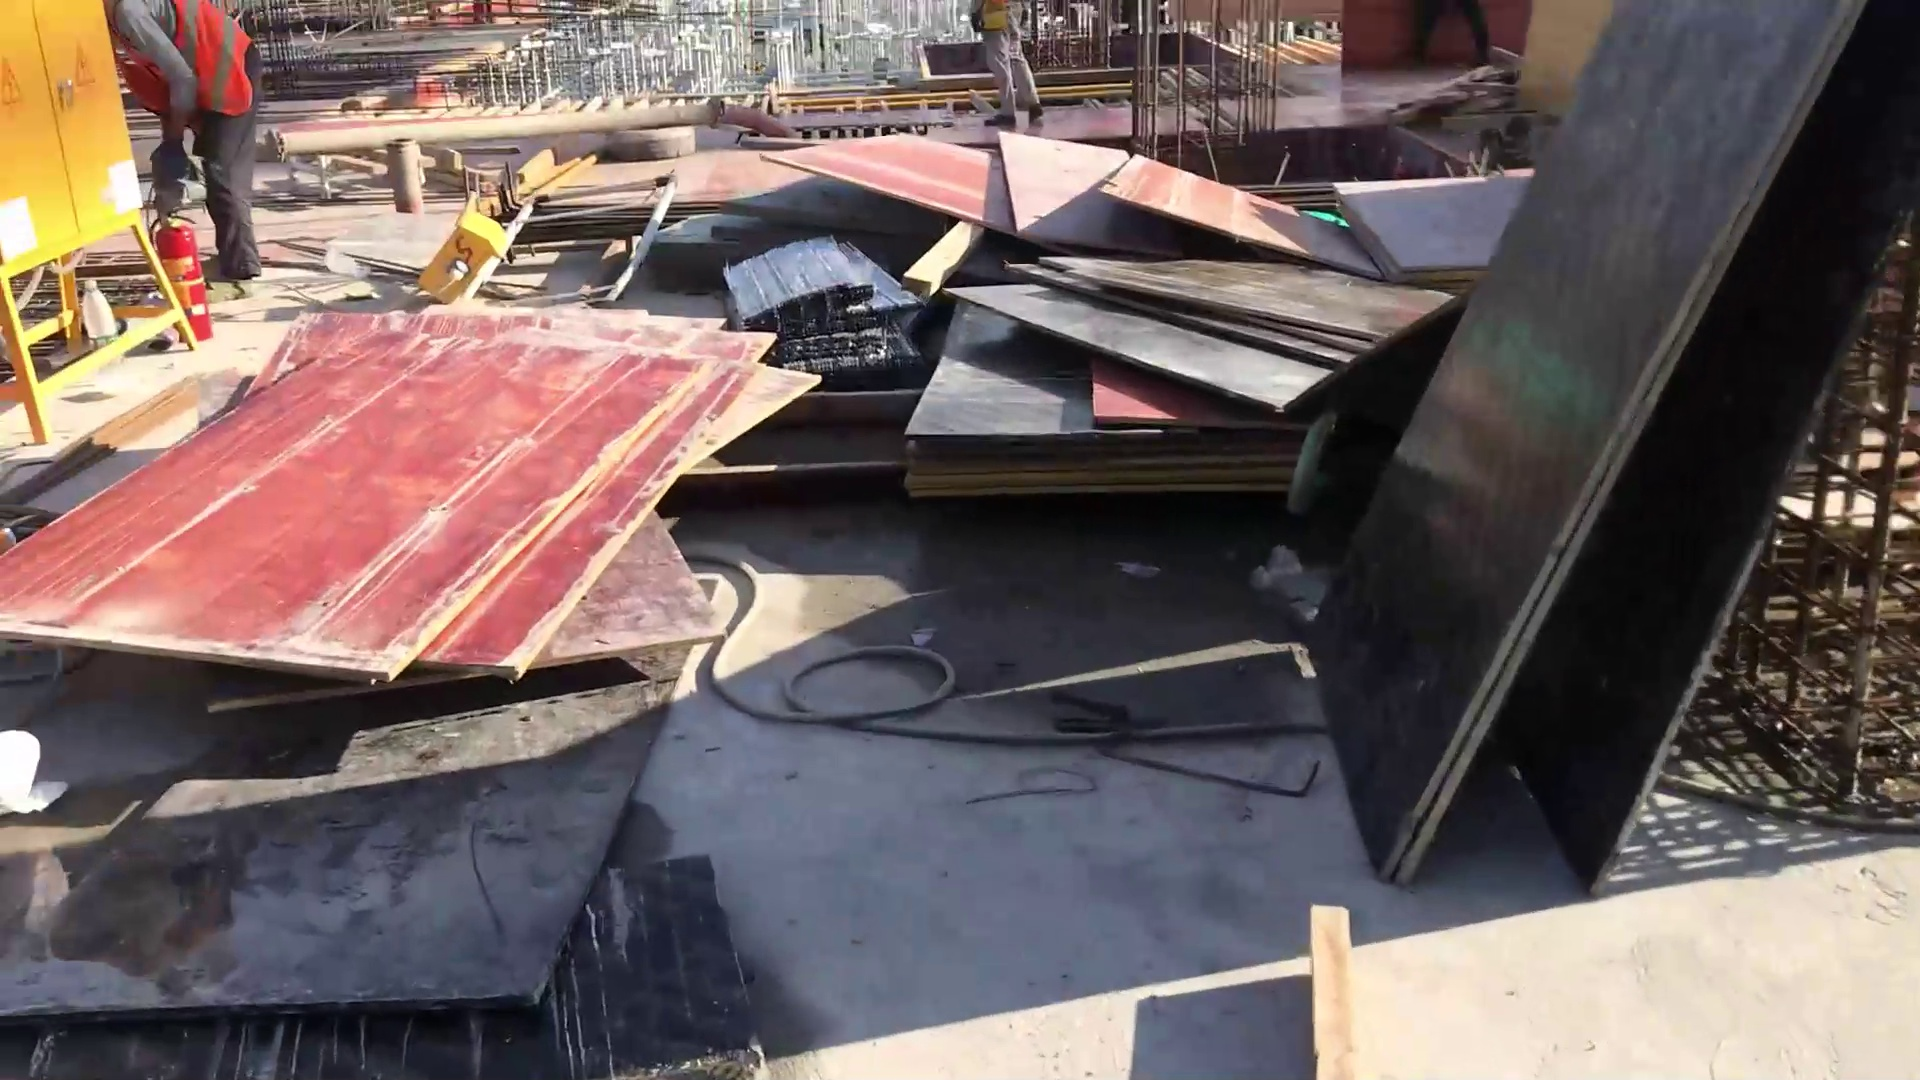ebox: (1, 5, 216, 332)
person: (113, 1, 281, 280), (964, 1, 1056, 126)
vest: (132, 1, 265, 117)
